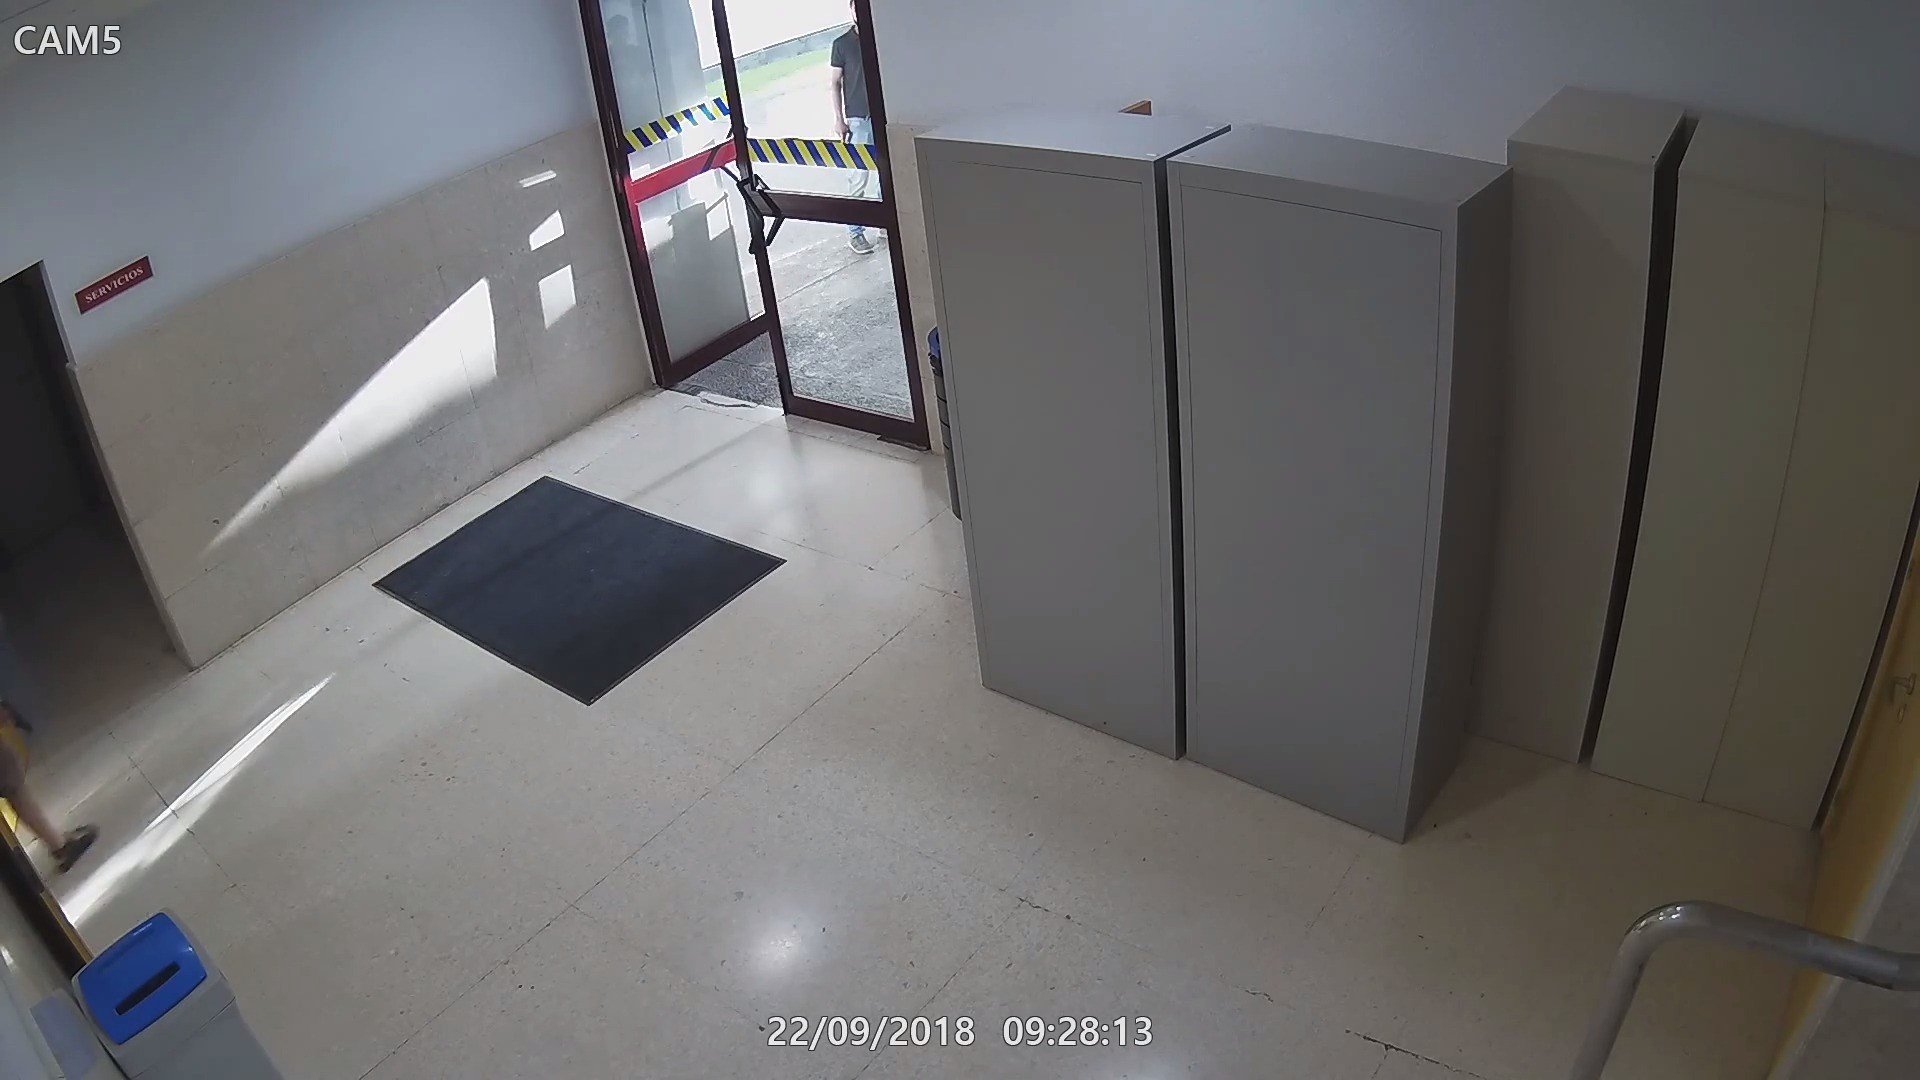Handgun: (0, 699, 37, 740)
